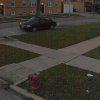Car: (15, 15, 61, 33)
